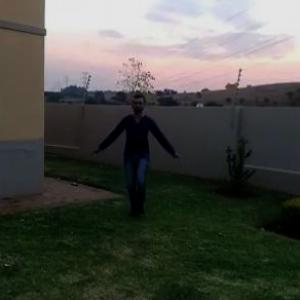land: (89, 98, 184, 226)
